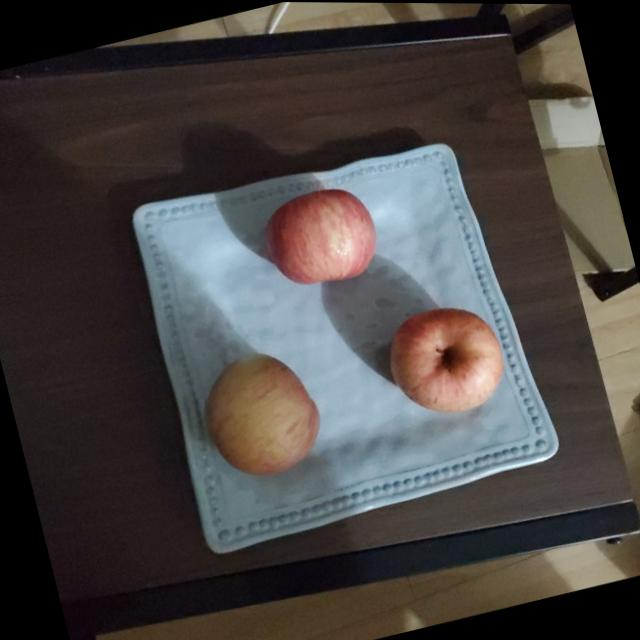apple: (196, 344, 332, 488), (379, 292, 515, 424), (254, 175, 386, 294)
